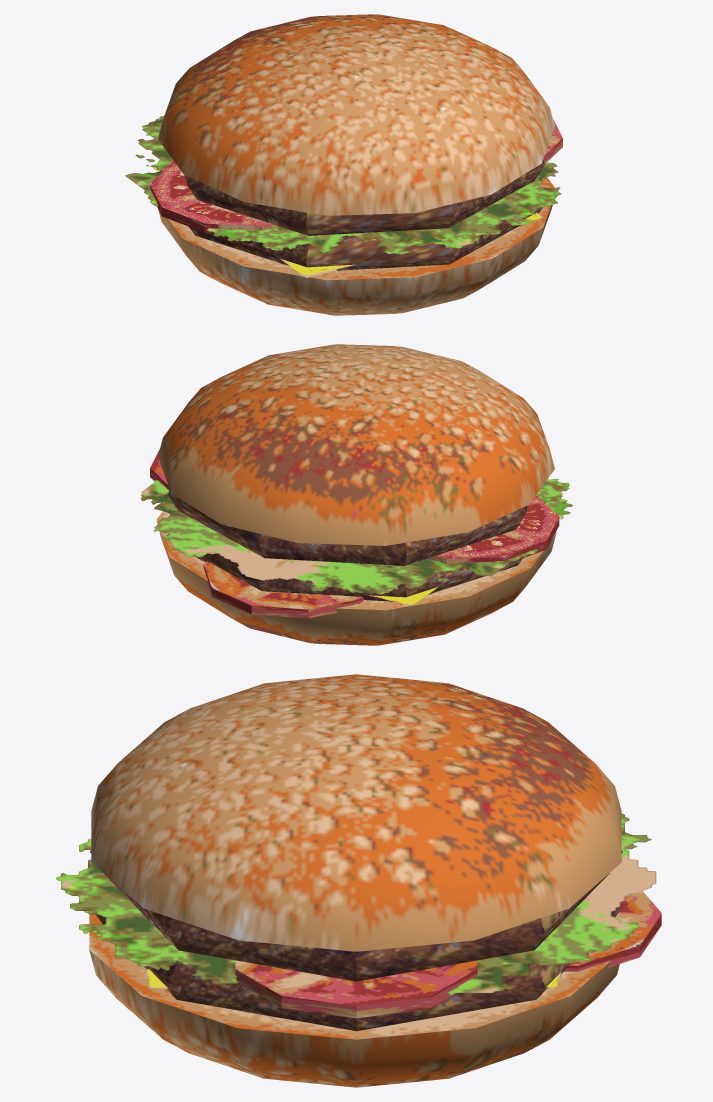
The model's file is burger.fbx.
3 views of the same model, one above another, from view 1: azimuth 30°, elevation 25°; view 2: azimuth 150°, elevation 25°; view 3: azimuth 270°, elevation 25° (orthographic). The views are drawn at different scales.
Parts seen in each view (by area): view 1: polySurface93; view 2: polySurface93; view 3: polySurface93.
Part boxes in pixels (<box>): polySurface93: <box>125,14,562,315</box>; polySurface93: <box>140,344,572,645</box>; polySurface93: <box>56,674,661,1087</box>.
Bounding box in the file's own units: 2.56 × 1.32 × 2.56.
3 materials, 3 textured.
